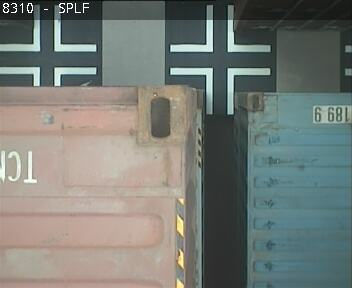groundmarker_1: (169, 67, 270, 115), (169, 4, 269, 52), (1, 5, 96, 52), (1, 66, 95, 86)
